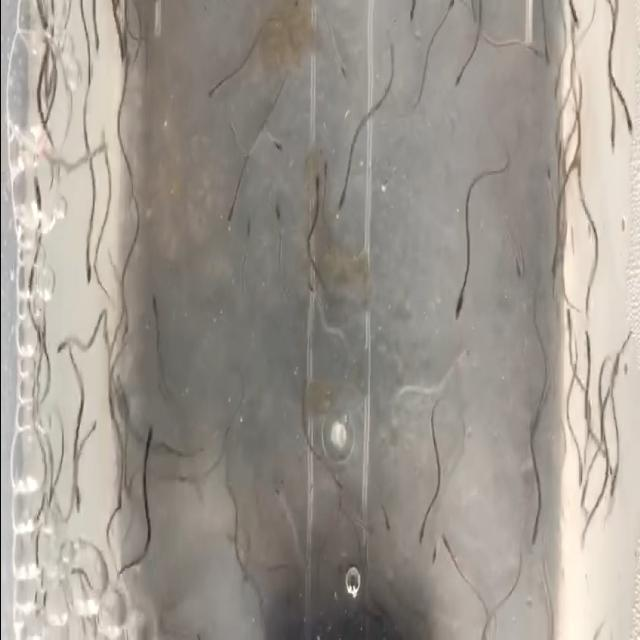active_glass_eel: (14, 116, 50, 184), (520, 40, 546, 84), (504, 242, 526, 286), (303, 164, 323, 206), (114, 22, 132, 64), (436, 525, 452, 571), (560, 3, 582, 36), (267, 472, 282, 518), (448, 290, 466, 328), (262, 204, 286, 232), (327, 59, 351, 86), (267, 128, 283, 166), (402, 4, 422, 34), (150, 290, 164, 330), (136, 427, 154, 457), (303, 281, 318, 317), (545, 258, 561, 290), (77, 264, 93, 296), (333, 191, 348, 225), (544, 41, 558, 77), (51, 334, 67, 364), (95, 133, 112, 161), (220, 202, 233, 238), (204, 78, 222, 104), (410, 522, 426, 550), (582, 286, 598, 314), (80, 64, 92, 100), (118, 314, 130, 349), (608, 470, 620, 504), (575, 456, 585, 496), (423, 541, 437, 567), (332, 466, 346, 492), (71, 491, 83, 521), (94, 21, 102, 66), (452, 61, 462, 95), (625, 108, 635, 142), (528, 519, 542, 543), (88, 406, 97, 441), (574, 526, 586, 552), (242, 221, 254, 247), (378, 514, 392, 534), (320, 159, 330, 185), (606, 132, 618, 153), (446, 0, 456, 22)
